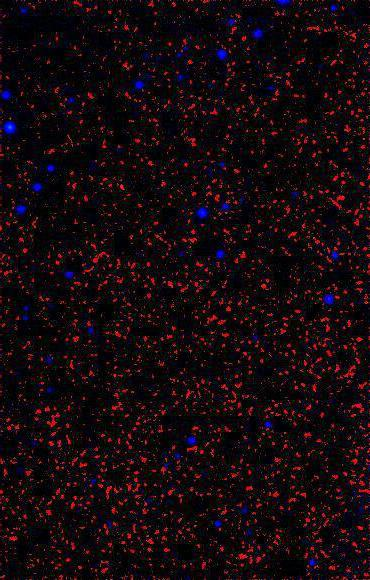star: (0, 112, 22, 142)
